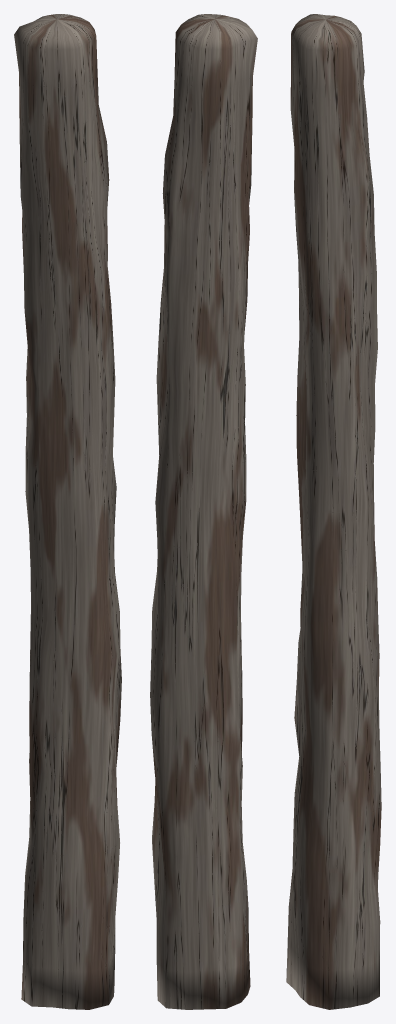
The model's file is fence-post.glb.
The picture shows the model from 3 angles, left to right: view 1: azimuth 30°, elevation 25°; view 2: azimuth 210°, elevation 25°; view 3: azimuth 330°, elevation 25°; orthographic projection.
Parts seen in each view (by area): view 1: fence-post; view 2: fence-post; view 3: fence-post.
Boxes of the visible parts, x1,y1,x2,y2 form: fence-post: [14, 14, 121, 1009]; fence-post: [150, 14, 257, 1009]; fence-post: [286, 14, 381, 1009].
Bounding box in the file's own units: 0.145 × 1.5 × 0.1268.
1 material, 1 textured.
